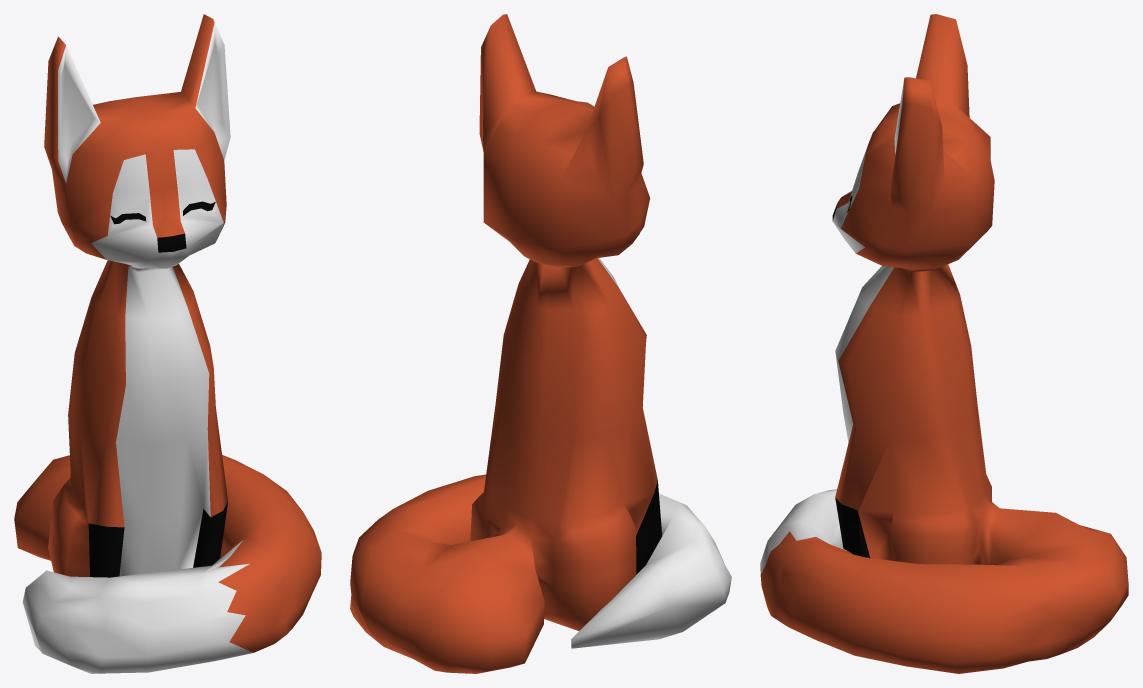
File: fox_inu.glb
3 views of the same model, side by side, from view 1: azimuth 30°, elevation 25°; view 2: azimuth 150°, elevation 25°; view 3: azimuth 270°, elevation 25° (orthographic). The views are drawn at different scales.
Parts seen in each view (by area): view 1: 1.044, 0.069, 2.022; view 2: 0.069, 1.044, 2.022; view 3: 0.069, 1.044, 2.022.
Boxes of the visible parts, box(x1,y1,x2,y2) form: 1.044: box(22, 23, 252, 673); 0.069: box(14, 14, 321, 652); 2.022: box(88, 201, 227, 577); 0.069: box(350, 14, 657, 673); 1.044: box(571, 258, 731, 648); 2.022: box(636, 481, 661, 574); 0.069: box(760, 14, 1128, 673); 1.044: box(760, 79, 904, 574); 2.022: box(832, 196, 869, 557).
Size of the model in its own units: 0.3718 by 0.667 by 0.3962.
